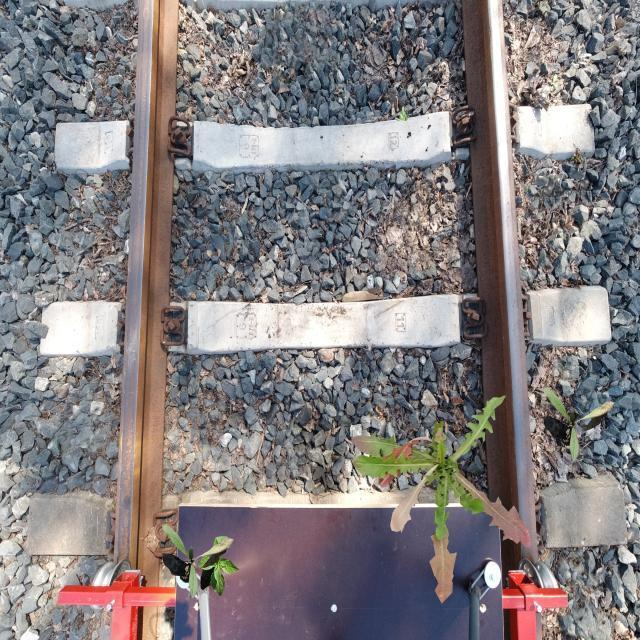Plant: (351, 396, 531, 604), (543, 387, 614, 462), (162, 524, 233, 598), (198, 536, 240, 596), (395, 106, 409, 122)
